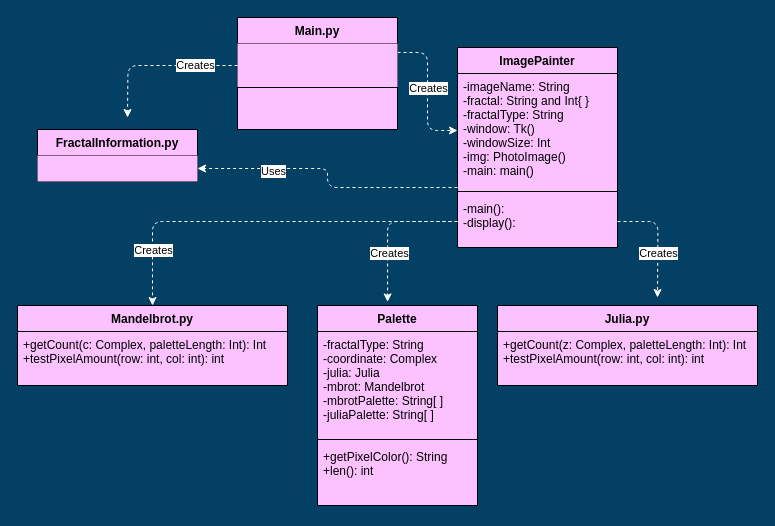
Some shapes in this 775 by 526 pixel diagram are drawn without their labels. Here are the shapes that lost their labels. From the top down, the centre of each, then its label:
At point (317, 65): "+JULIAS: String[ ] +MBROTS: String[ ]".
At point (317, 108): "+ displayOptions():".
At point (117, 168): "+fractals: String and Int{ }".
